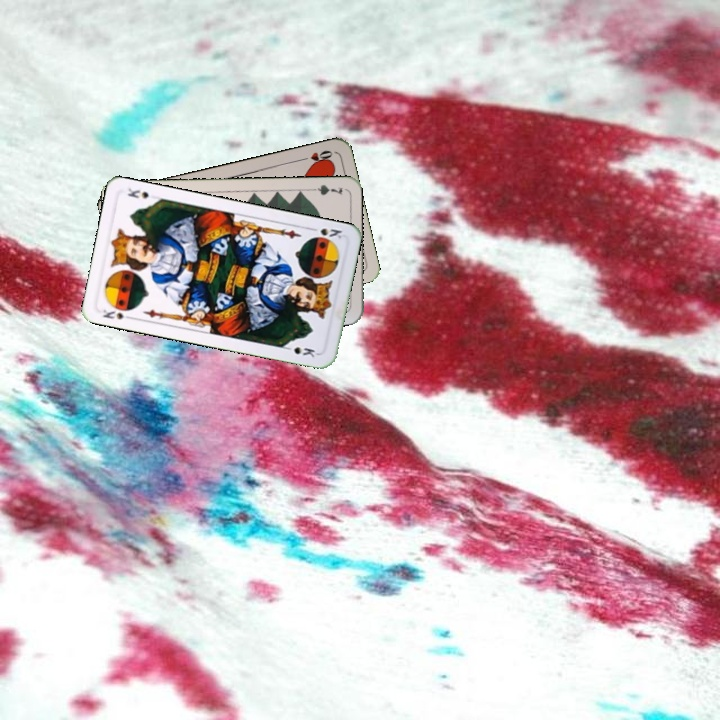G7: (305, 181, 345, 198)
HO: (296, 146, 335, 167)
SK: (305, 223, 344, 241), (98, 305, 136, 322)
